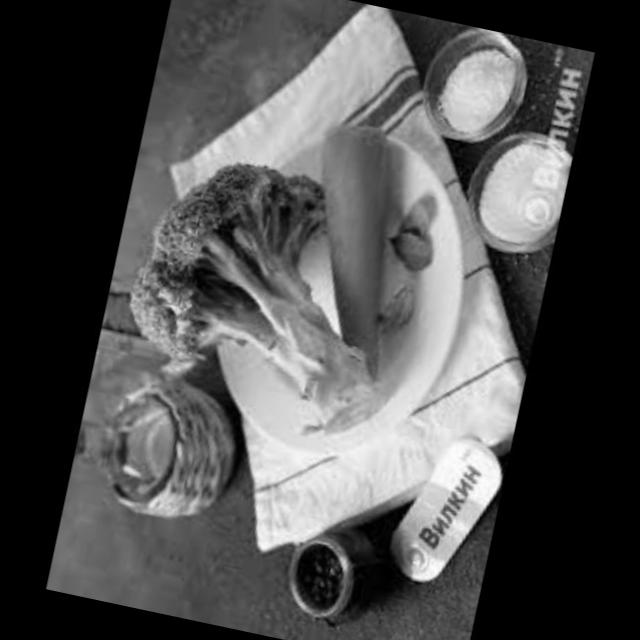bong cai xanh: (107, 142, 407, 422)
ca rot: (272, 100, 436, 378)
